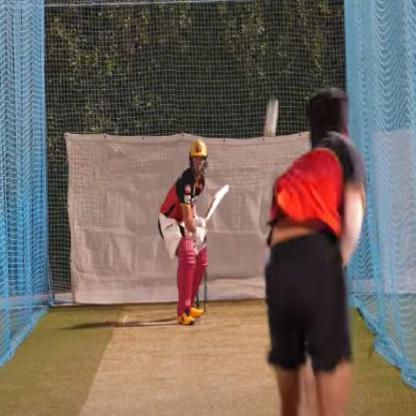ball: (260, 92, 286, 143)
